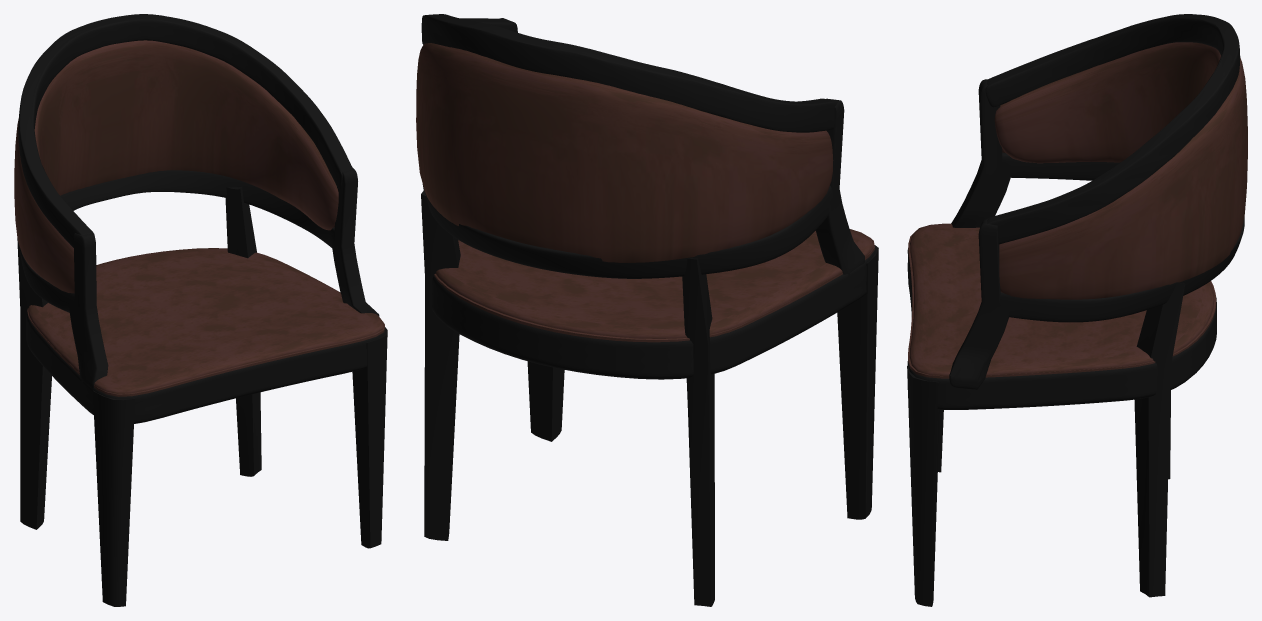
3 views of the same model, side by side, from view 1: azimuth 30°, elevation 25°; view 2: azimuth 150°, elevation 25°; view 3: azimuth 270°, elevation 25° (orthographic). The views are drawn at different scales.
Parts seen in each view (by area): view 1: Torus, Cube_2, Cube, Torus_3, Torus_2, Cube_1; view 2: Torus, Cube_2, Cube, Torus_3, Torus_2, Cube_1; view 3: Torus, Cube_2, Cube, Torus_3, Torus_2, Cube_1.
Boxes of the visible parts, x1=… form: Torus: x1=14, y1=40, x2=338, y2=293; Cube_2: x1=17, y1=187, x2=387, y2=606; Cube: x1=28, y1=248, x2=384, y2=393; Torus_3: x1=18, y1=14, x2=352, y2=247; Torus_2: x1=19, y1=168, x2=379, y2=388; Cube_1: x1=27, y1=308, x2=384, y2=396; Torus: x1=416, y1=43, x2=833, y2=262; Cube_2: x1=421, y1=190, x2=878, y2=606; Cube: x1=435, y1=229, x2=873, y2=338; Torus_3: x1=421, y1=14, x2=837, y2=132; Torus_2: x1=422, y1=18, x2=864, y2=278; Cube_1: x1=434, y1=240, x2=874, y2=342; Torus: x1=994, y1=42, x2=1247, y2=299; Cube_2: x1=907, y1=248, x2=1216, y2=606; Cube: x1=909, y1=223, x2=1214, y2=376; Torus_3: x1=985, y1=14, x2=1240, y2=244; Torus_2: x1=949, y1=79, x2=1244, y2=389; Cube_1: x1=908, y1=230, x2=1216, y2=378.
Size of the model in its own units: 0.4188 by 0.626 by 0.3923.
2 materials, 1 textured.
